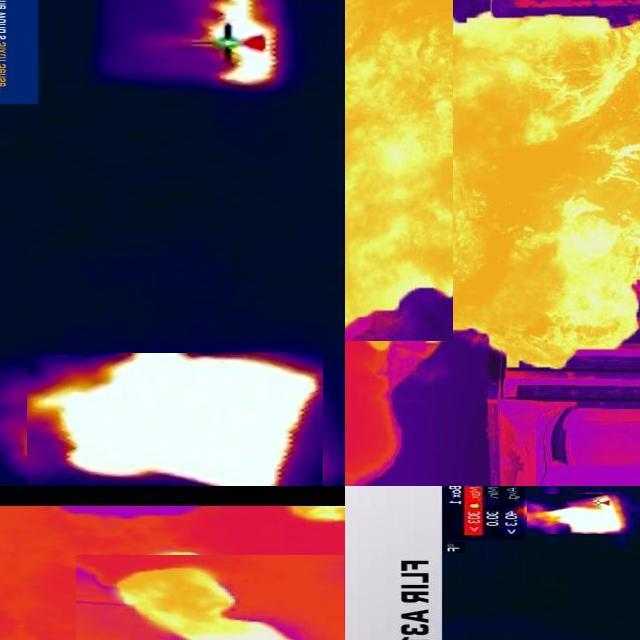fire: (348, 1, 640, 368), (27, 354, 323, 487), (109, 569, 297, 640), (192, 1, 282, 85), (527, 495, 630, 535)
